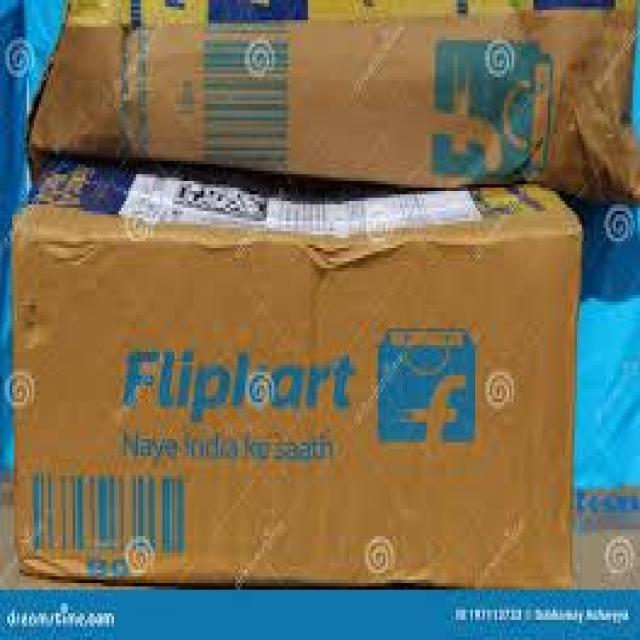box: (8, 171, 580, 586)
